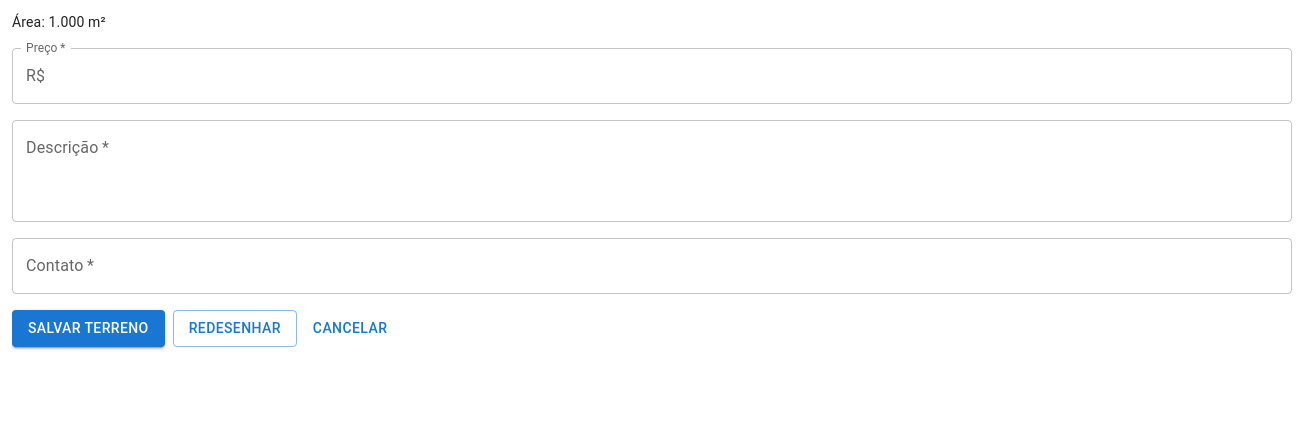
Scenario: PlotForm › blocks an incomplete form and clears an error once the field is fixed
The width and height of the screenshot is (1304, 435).
Click the button "Salvar terreno".
click(88, 328)  # box top-left (12, 310), bottom-right (165, 346)
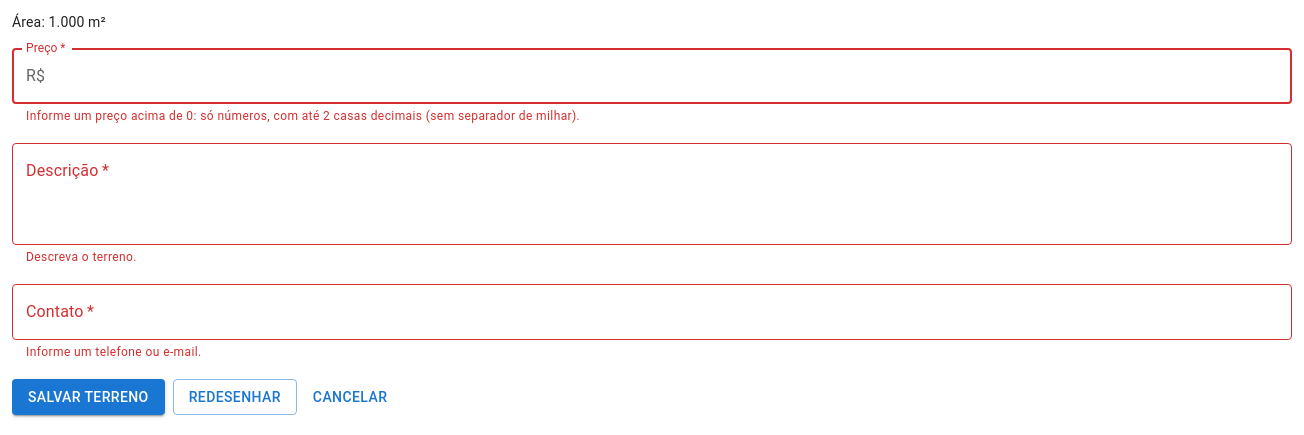
Now the text "Descreva o terreno." is shown, box top-left (26, 250), bottom-right (137, 264)
Now the text "Informe um telefone ou e-mail." is shown, box top-left (26, 345), bottom-right (202, 359)
Type "x" into the text box labelled "Descrição *".
click(652, 194); type("x")  # box top-left (26, 159), bottom-right (1278, 228)
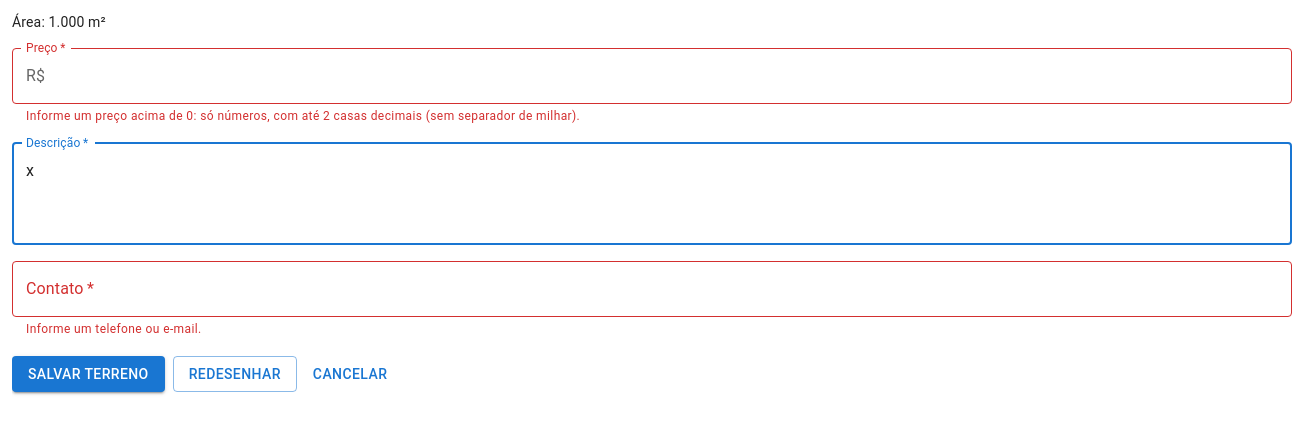
Now the text "Descreva o terreno." is gone
